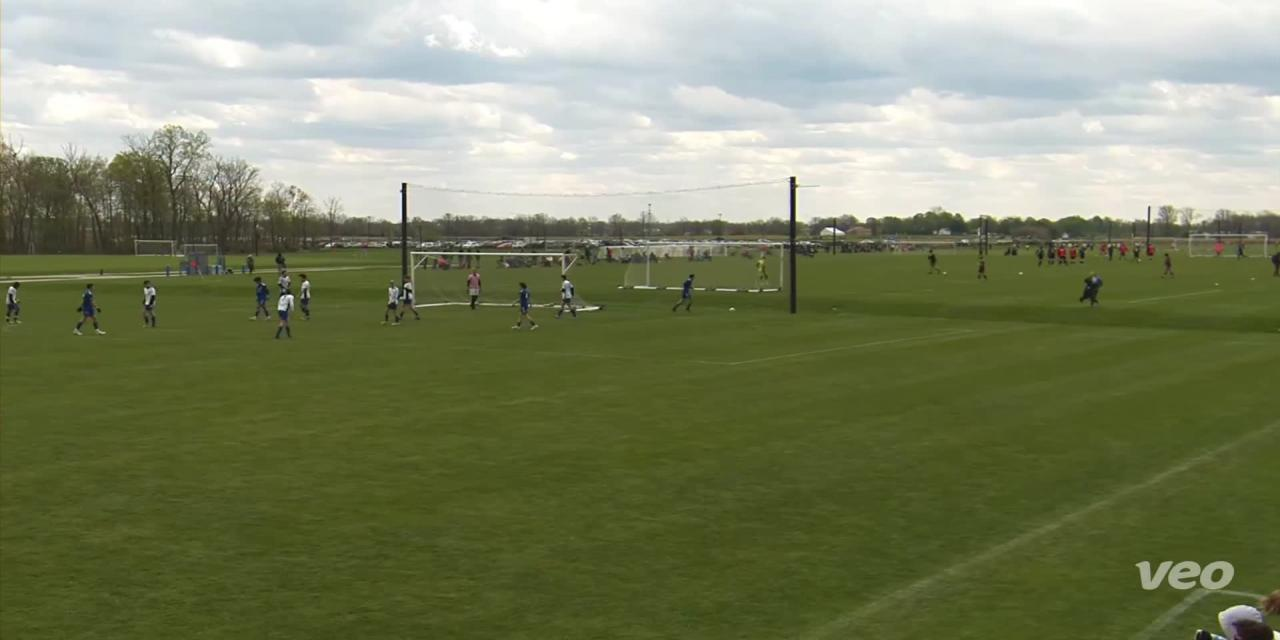goal: (403, 244, 613, 319)
sports ball: (725, 303, 742, 319)
